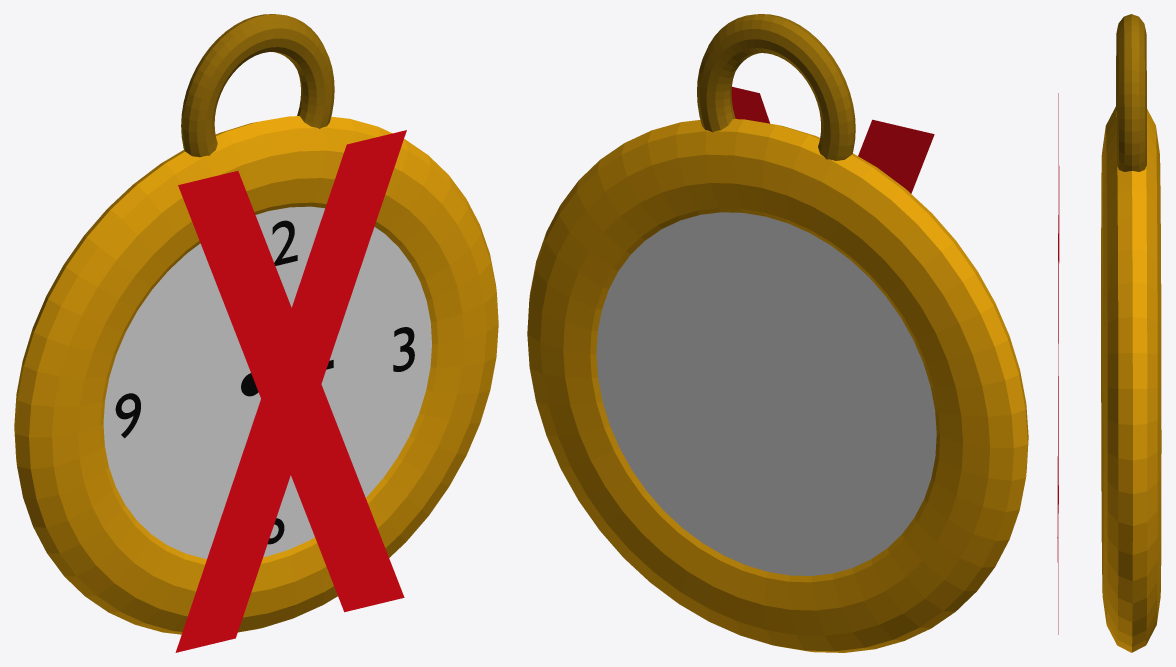
Rendered from cancel_time.fbx.
3 renders of one model, left to right at view 1: azimuth 30°, elevation 25°; view 2: azimuth 150°, elevation 25°; view 3: azimuth 270°, elevation 25°, orthographic. The views are drawn at different scales.
Parts seen in each view (by area): view 1: Torus.001, Cylinder, cancel.txt.001, cancel.txt, Torus; view 2: Torus.001, Cylinder, Torus, cancel.txt.001, cancel.txt; view 3: Torus.001, Torus, cancel.txt.001, cancel.txt.
Boxes of the visible parts, x1,y1,x2,y2 form: Torus.001: (14, 116, 498, 634); Cylinder: (103, 206, 431, 558); cancel.txt.001: (178, 171, 404, 612); cancel.txt: (175, 130, 406, 652); Torus: (181, 14, 334, 157); Torus.001: (527, 119, 1028, 652); Cylinder: (596, 212, 936, 575); Torus: (697, 14, 855, 160); cancel.txt.001: (858, 119, 934, 193); cancel.txt: (731, 86, 769, 123); Torus.001: (1101, 106, 1161, 652); Torus: (1116, 14, 1146, 171); cancel.txt.001: (1058, 93, 1058, 634); cancel.txt: (1057, 166, 1059, 562).
Size of the model in its own units: 2.5 by 3.02 by 0.4678.
